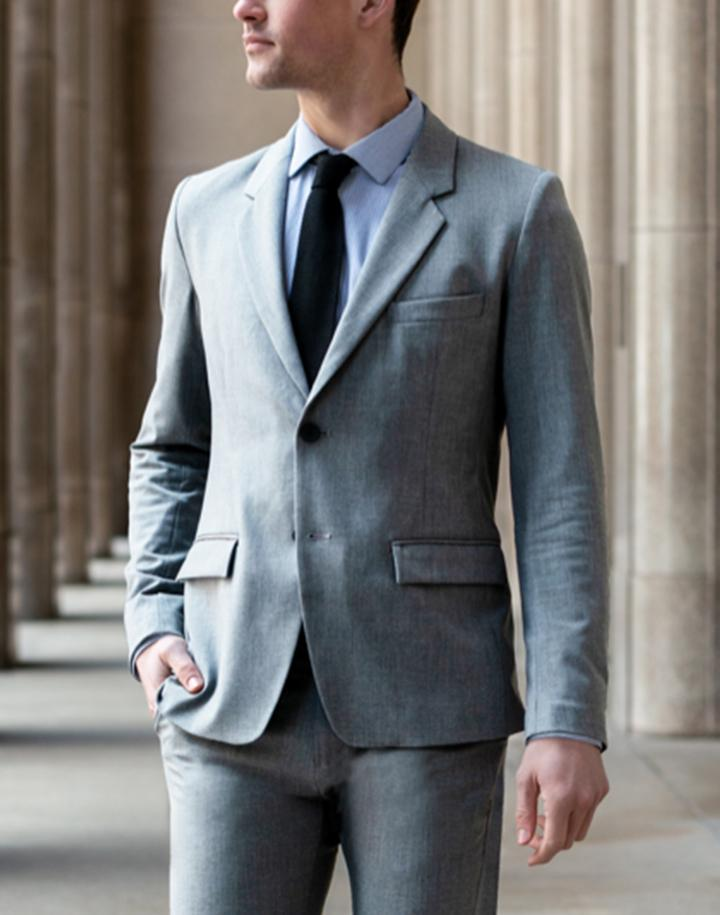F_M_suit jacket: (111, 125, 635, 761)
F_shirt: (280, 126, 411, 344)
F_tie: (289, 156, 368, 380)
